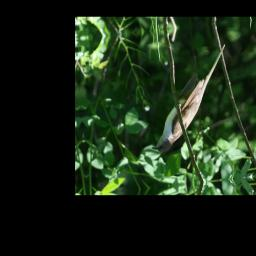Cuckoo: (144, 43, 234, 154)
